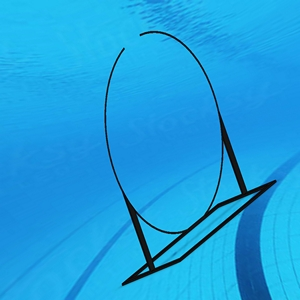circle: (102, 29, 279, 285)
